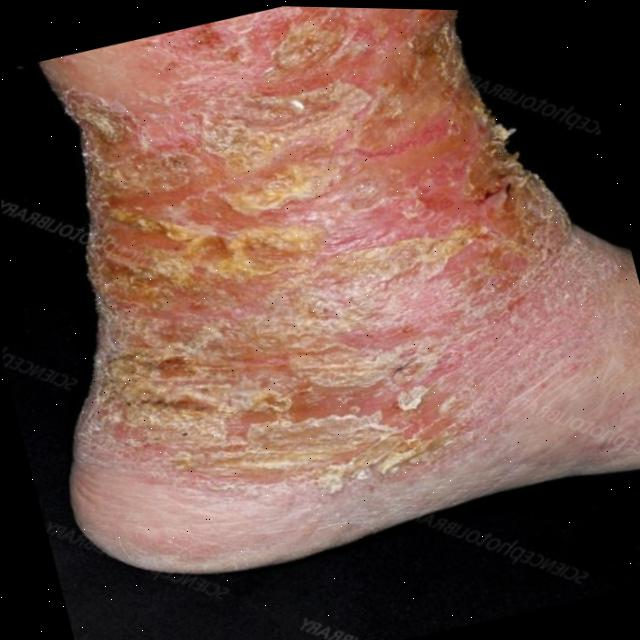Eczema: (22, 0, 577, 523)
